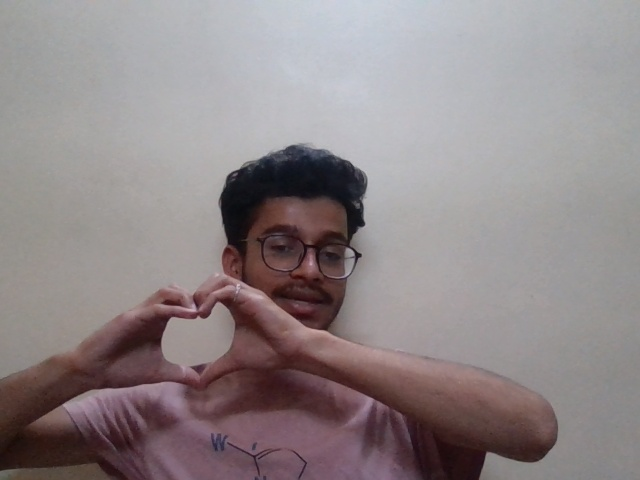silent-voice: (84, 266, 301, 415)
